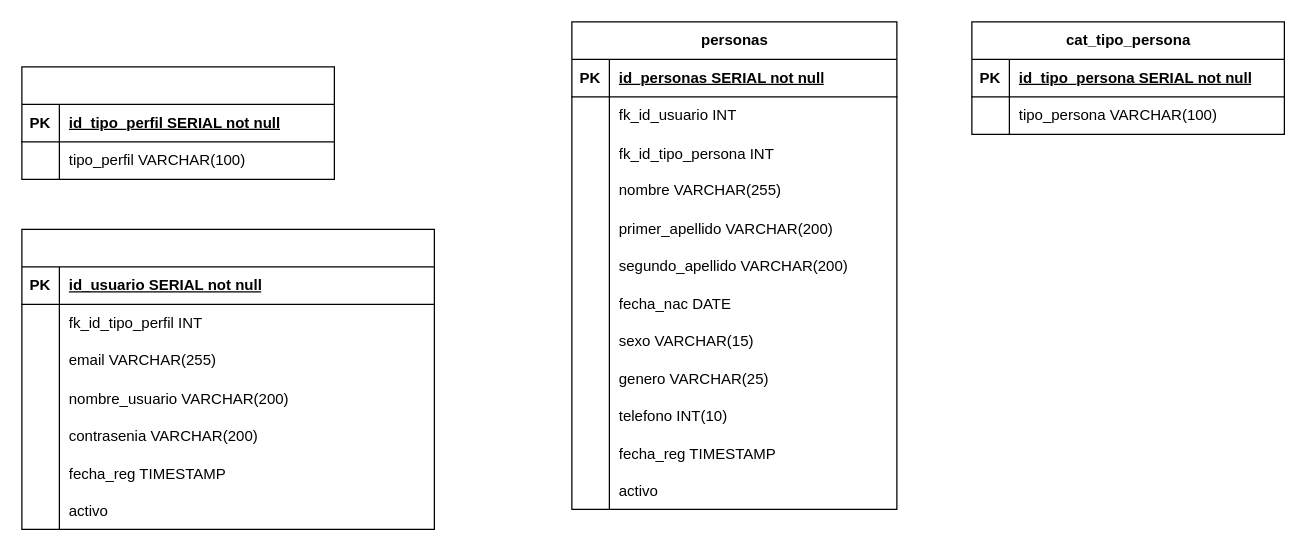
This 1306x551 diagram has some shape labels left out. The box of each missing label's shape, as (x1, y1, x2, y2) in pixels:
cat_tipo_perfiles: (21, 66, 334, 179)
cat_usuarios: (21, 228, 434, 529)
